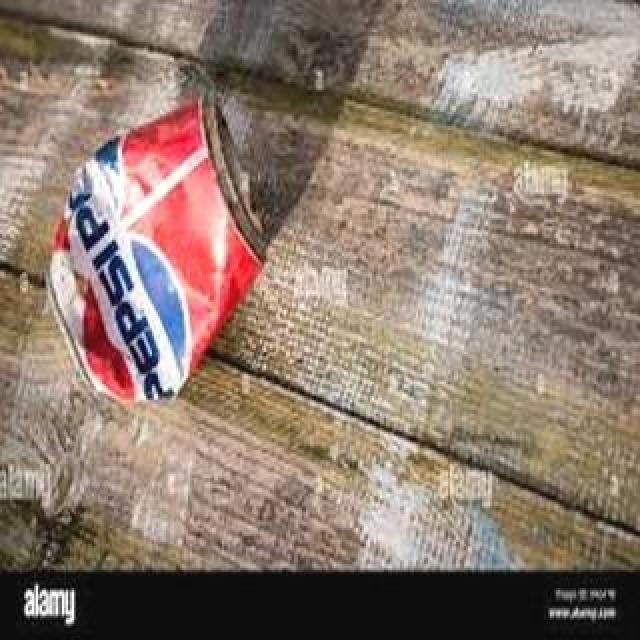Can: (21, 96, 303, 418)
